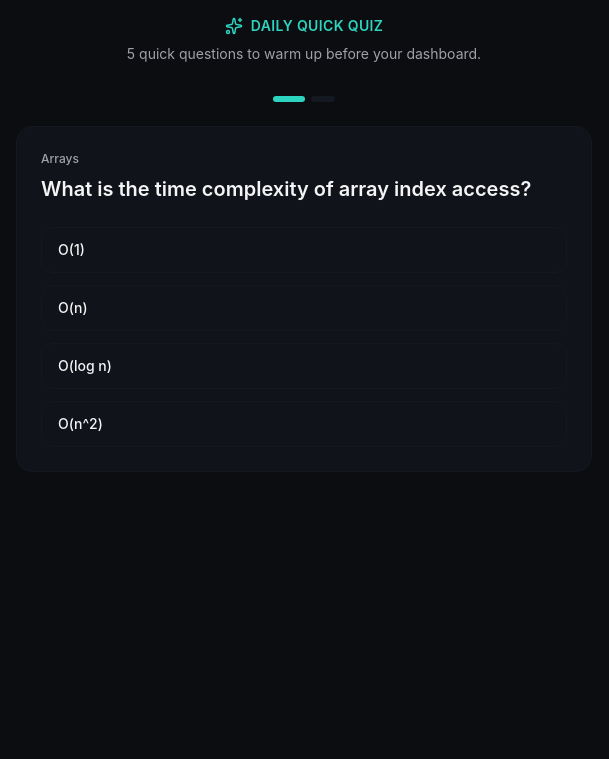
Test case: DailyQuickQuiz › shows the result screen after the last question, with score and topic breakdown
Step 1. Click the button "O(1)" → point(71, 250), box x1=41 y1=227 x2=567 y2=273
Wait 1000 ms
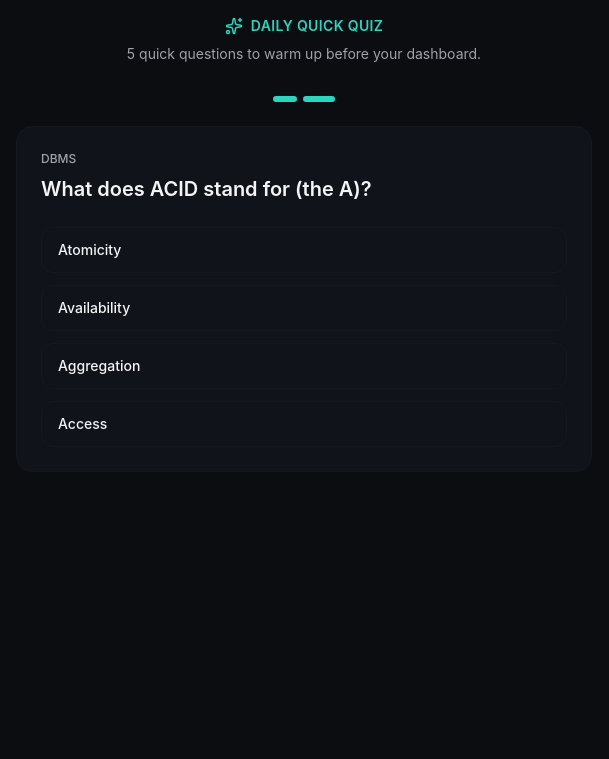
Step 2. Click the button "Atomicity" → point(90, 250), box x1=41 y1=227 x2=567 y2=273
Wait 1000 ms
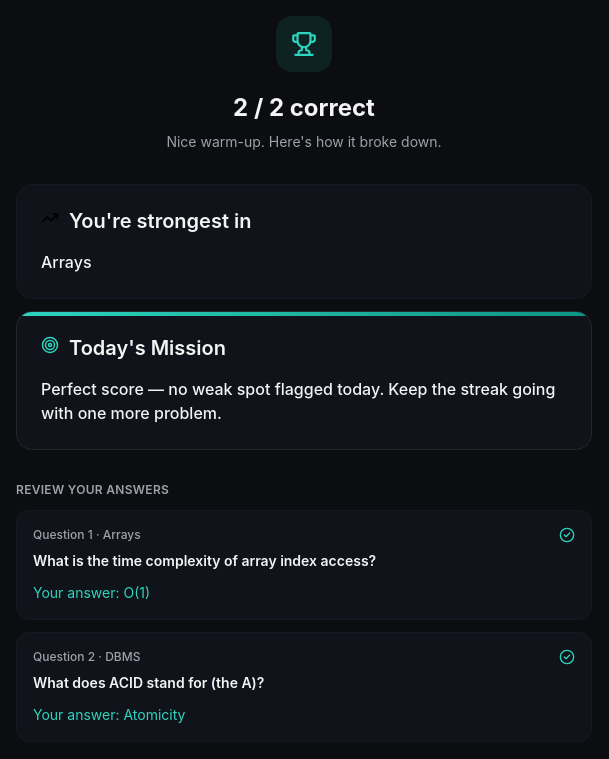
Expected: the heading "2 / 2 correct" is shown, x1=233 y1=93 x2=375 y2=122
Expected: the text "Arrays" is shown, x1=41 y1=252 x2=92 y2=272
Expected: the text "no weak spot flagged today" is shown, x1=41 y1=379 x2=555 y2=423
